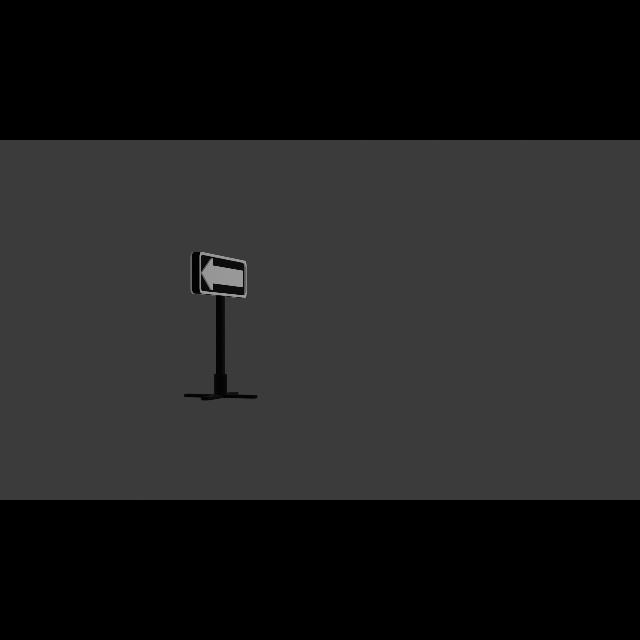sign_oneway_left: (192, 251, 249, 302)
